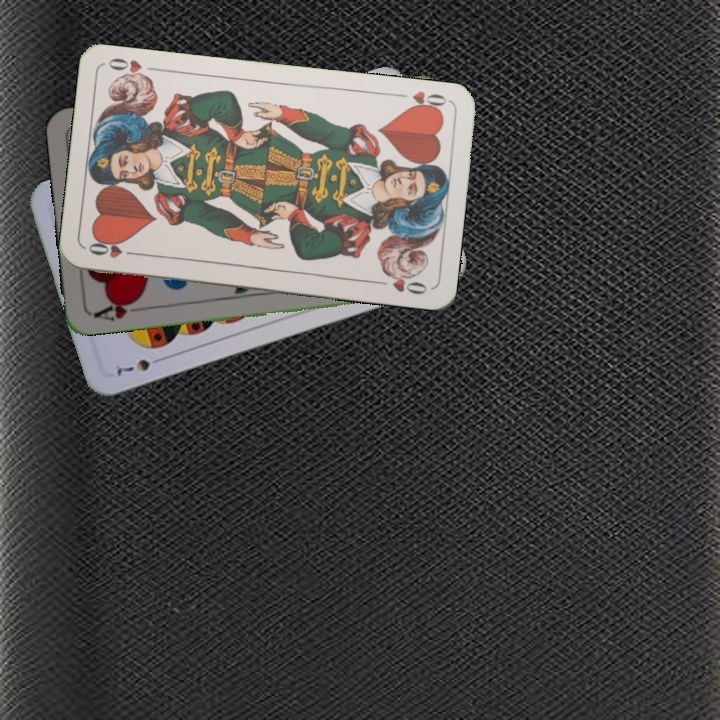HA: (89, 294, 148, 324)
HO: (84, 237, 142, 261), (403, 87, 451, 116)
S7: (109, 353, 167, 379)
